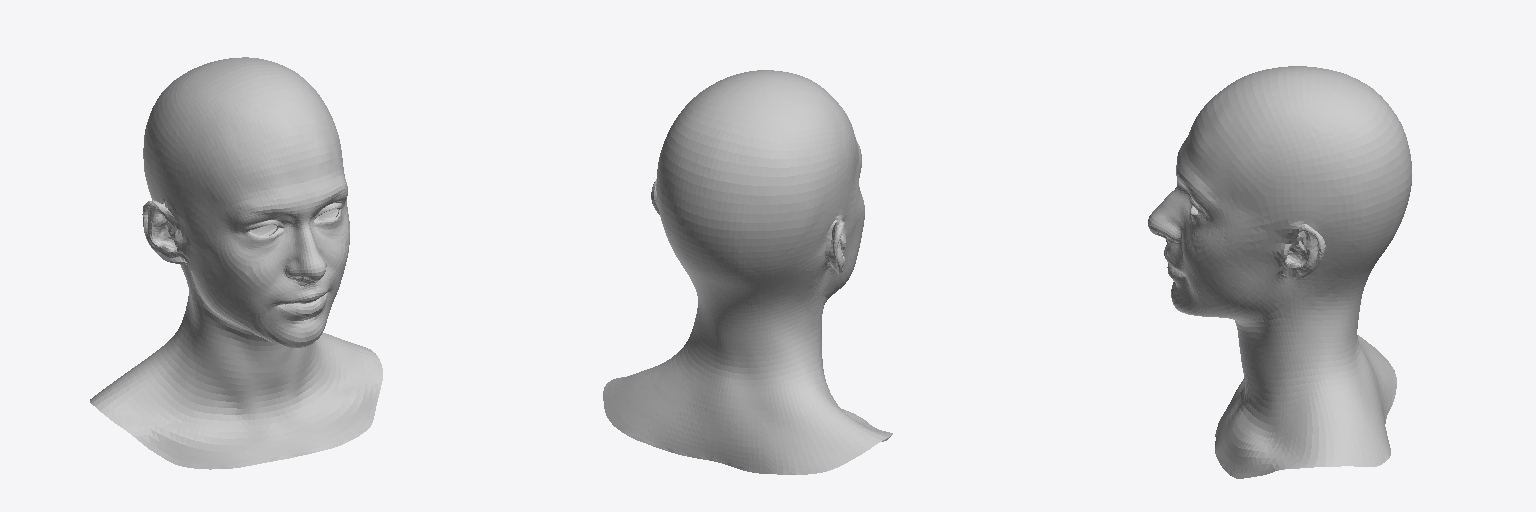
File: Head.OBJ
3 views of the same model, side by side, from view 1: azimuth 30°, elevation 25°; view 2: azimuth 150°, elevation 25°; view 3: azimuth 270°, elevation 25° (orthographic).
Visible parts, largest first — view 1: ZBrushPolyMesh3D; view 2: ZBrushPolyMesh3D; view 3: ZBrushPolyMesh3D.
Part boxes in pixels (bbox=[...]): ZBrushPolyMesh3D: bbox=[90, 57, 382, 469]; ZBrushPolyMesh3D: bbox=[603, 70, 892, 474]; ZBrushPolyMesh3D: bbox=[1148, 66, 1411, 478].
Size of the model in its own units: 0.2628 by 0.329 by 0.2183.